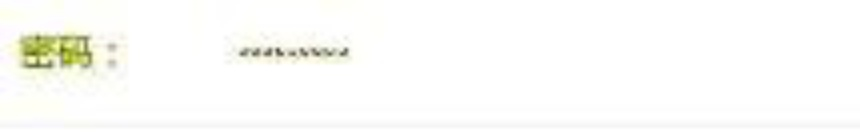EditText: (1, 1, 859, 139)
